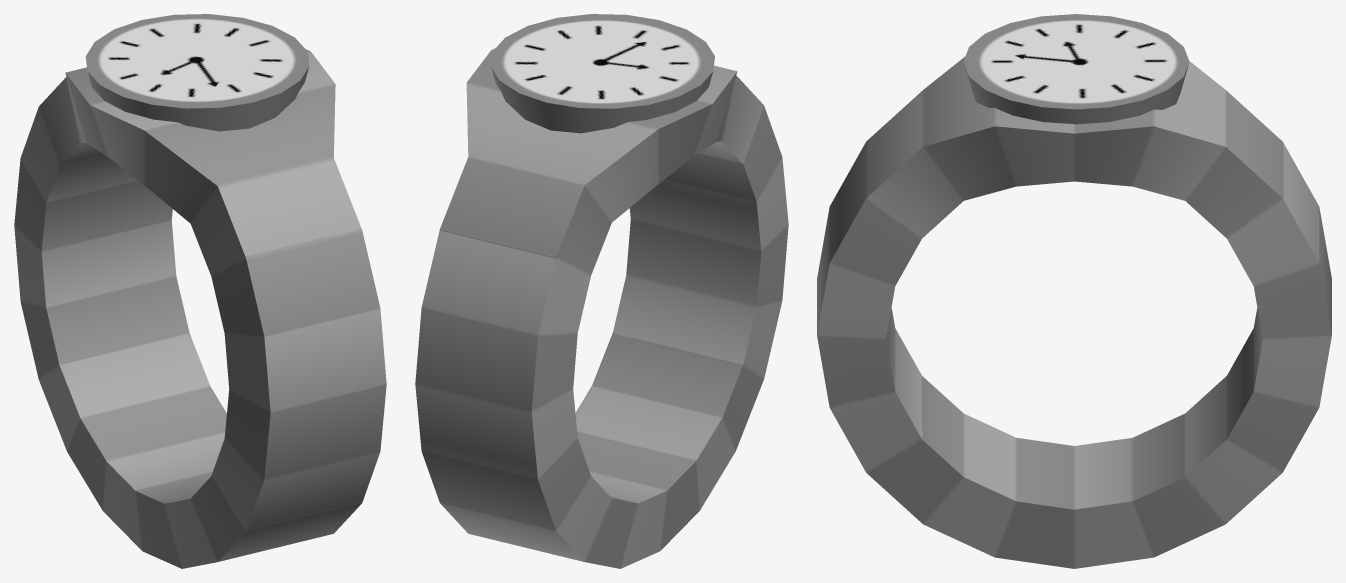
The model's file is watch.fbx.
3 views of the same model, side by side, from view 1: azimuth 30°, elevation 25°; view 2: azimuth 150°, elevation 25°; view 3: azimuth 270°, elevation 25° (orthographic).
Parts seen in each view (by area): view 1: polySurface2; view 2: polySurface2; view 3: polySurface2.
Part boxes in pixels (x1=…): polySurface2: x1=14, y1=14, x2=386, y2=568; polySurface2: x1=415, y1=14, x2=788, y2=568; polySurface2: x1=817, y1=14, x2=1331, y2=568.
Size of the model in its own units: 0.2332 by 0.4805 by 0.4693.
1 material, 1 textured.
